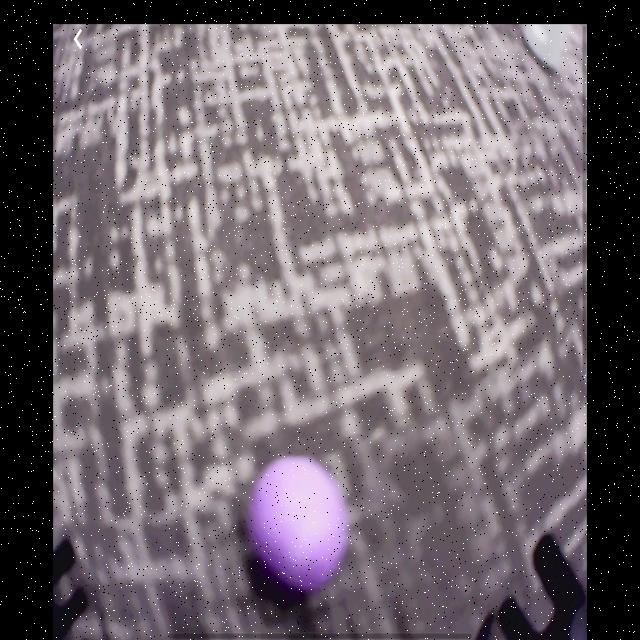ball: (247, 454, 352, 595)
